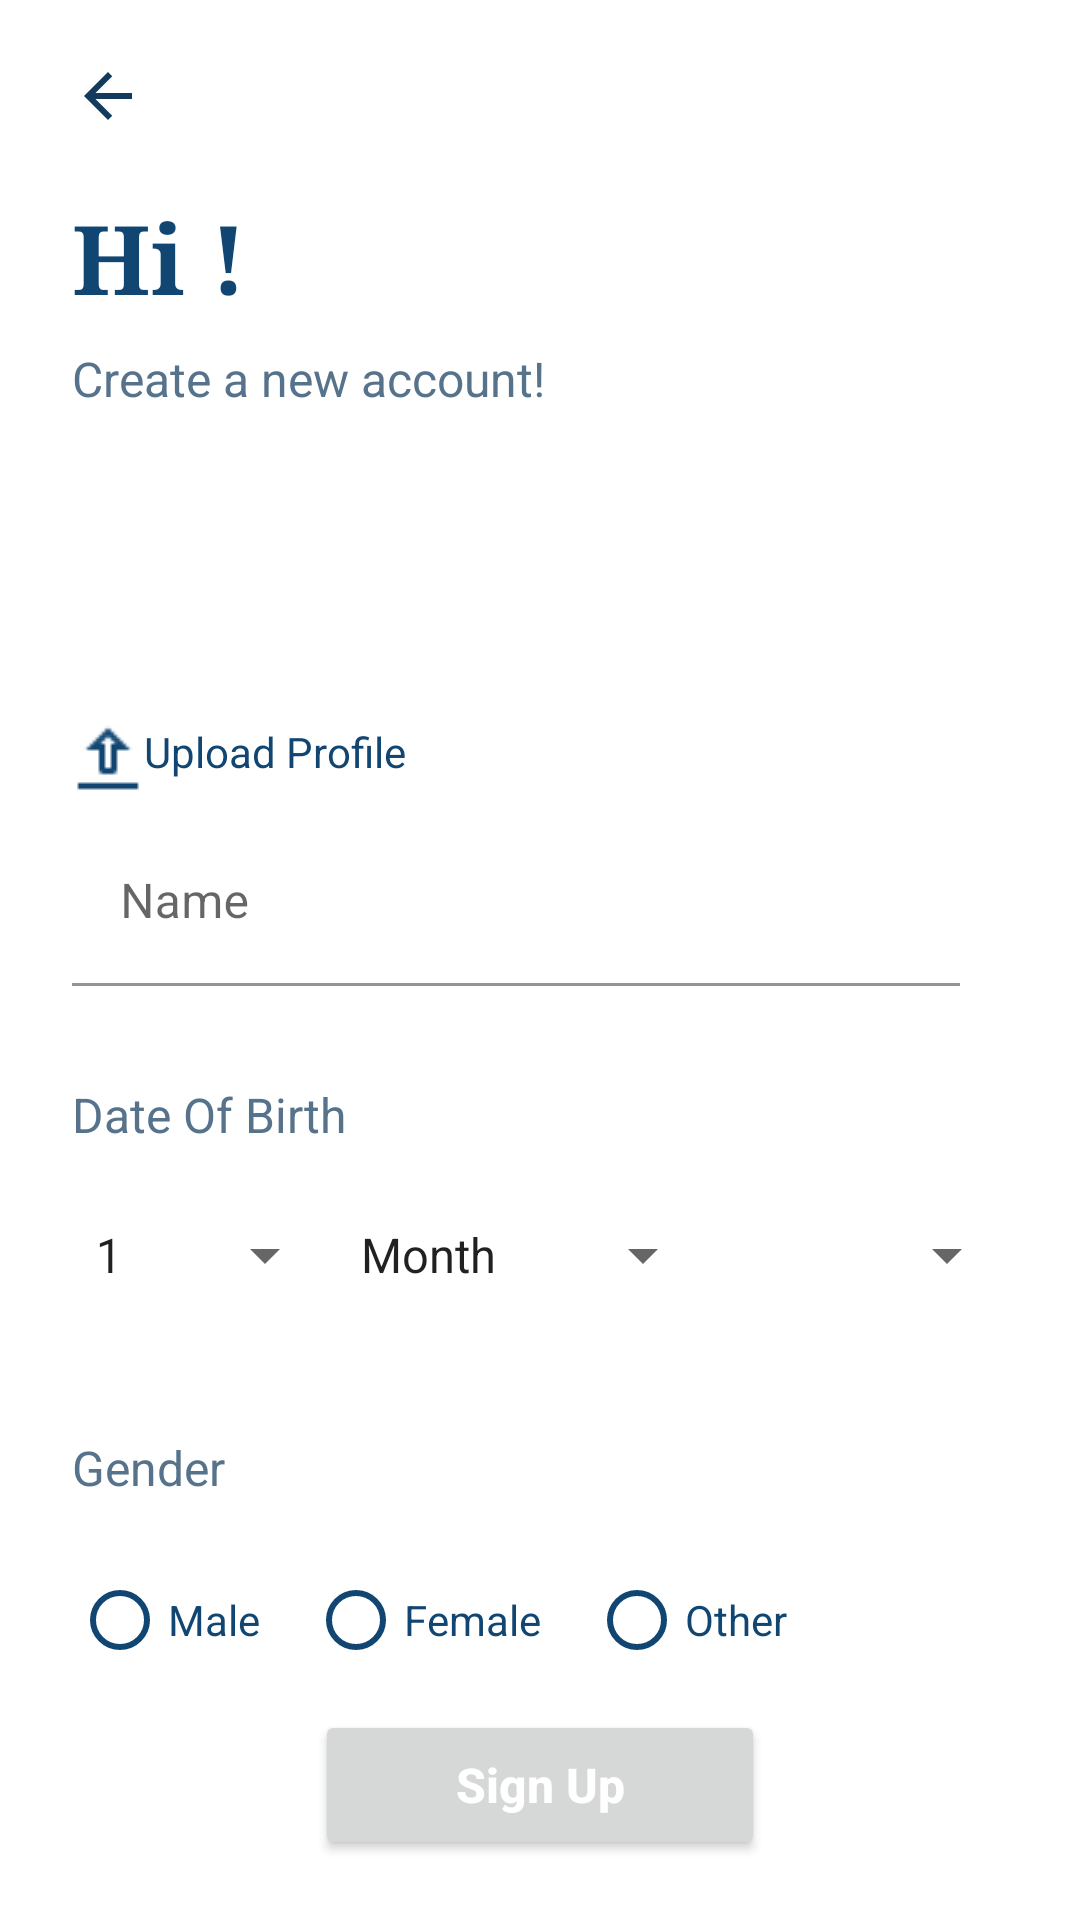

Where to tap for icons on this 1080*1920 app screen, as point (x, y):
arrow back: point (108, 96)
